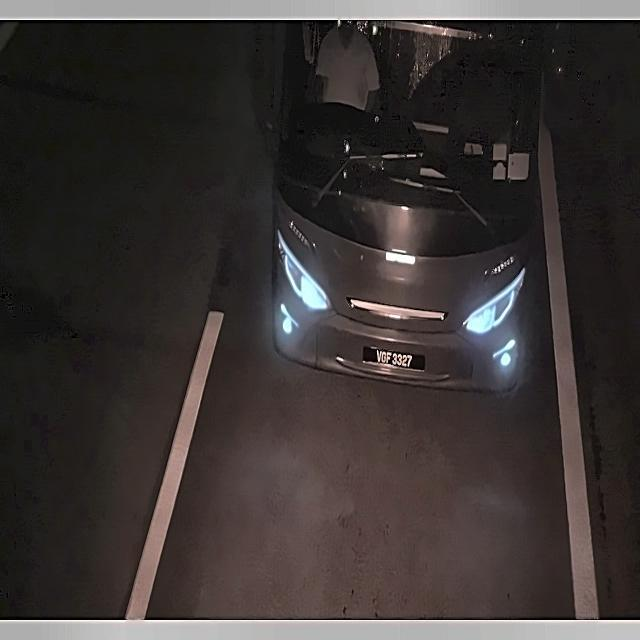car: (358, 337, 430, 381)
